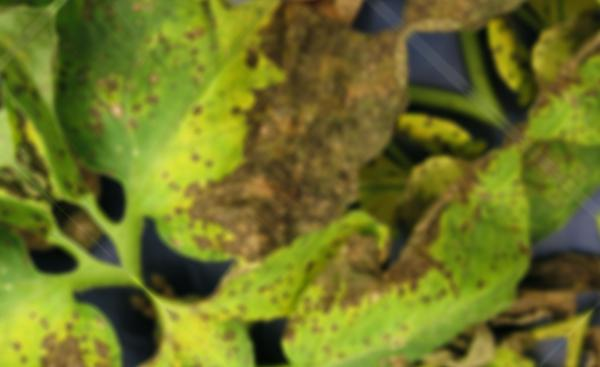Tomato Septoria leaf spot: (0, 0, 458, 314), (247, 114, 585, 367)
